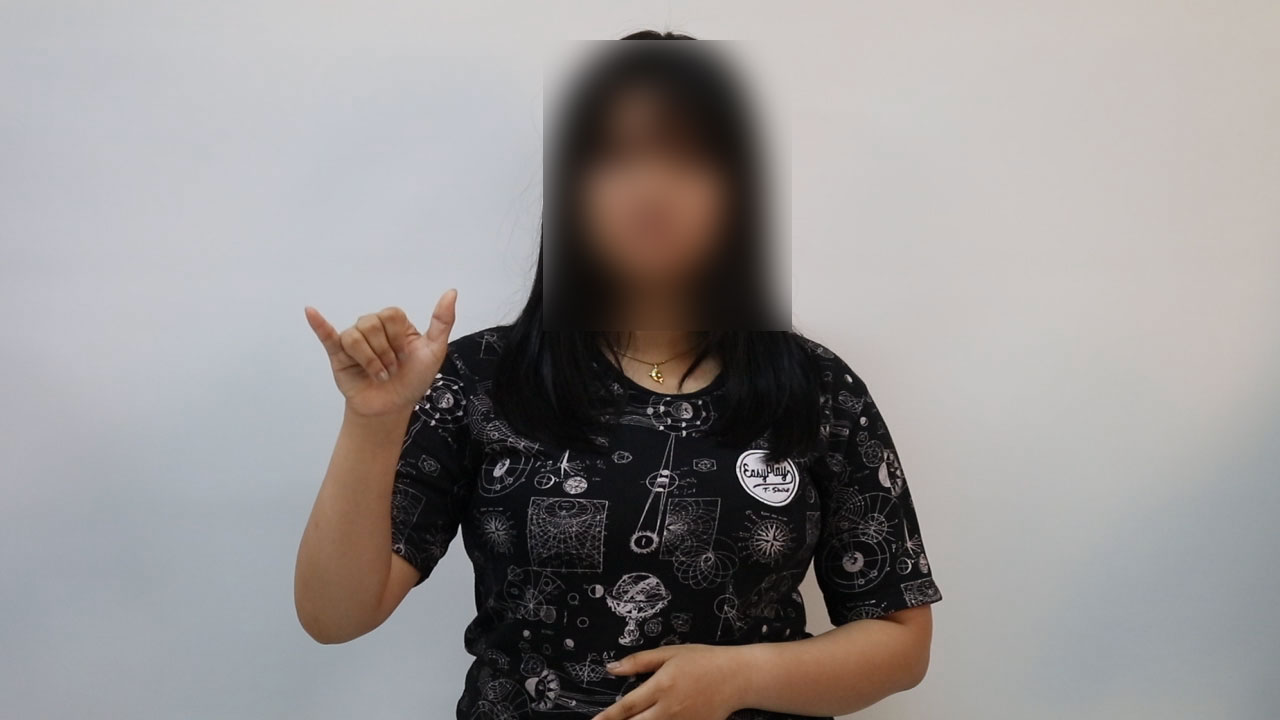yor: (297, 291, 484, 426)
